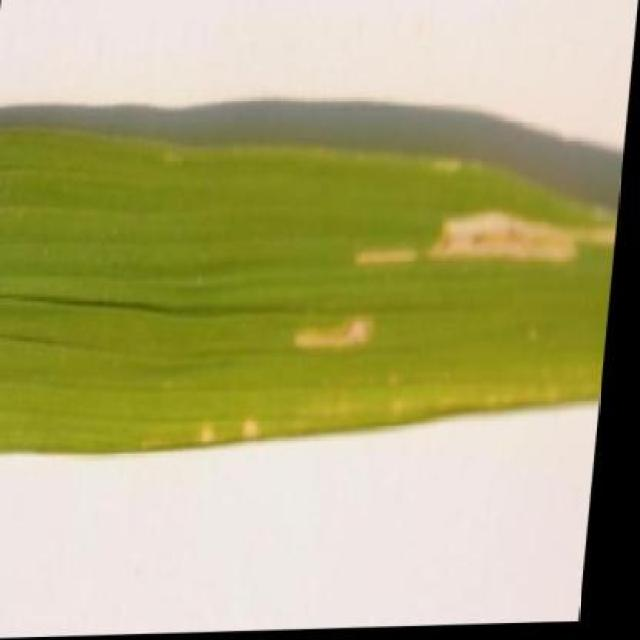Brown_Spot: (0, 108, 631, 464)
